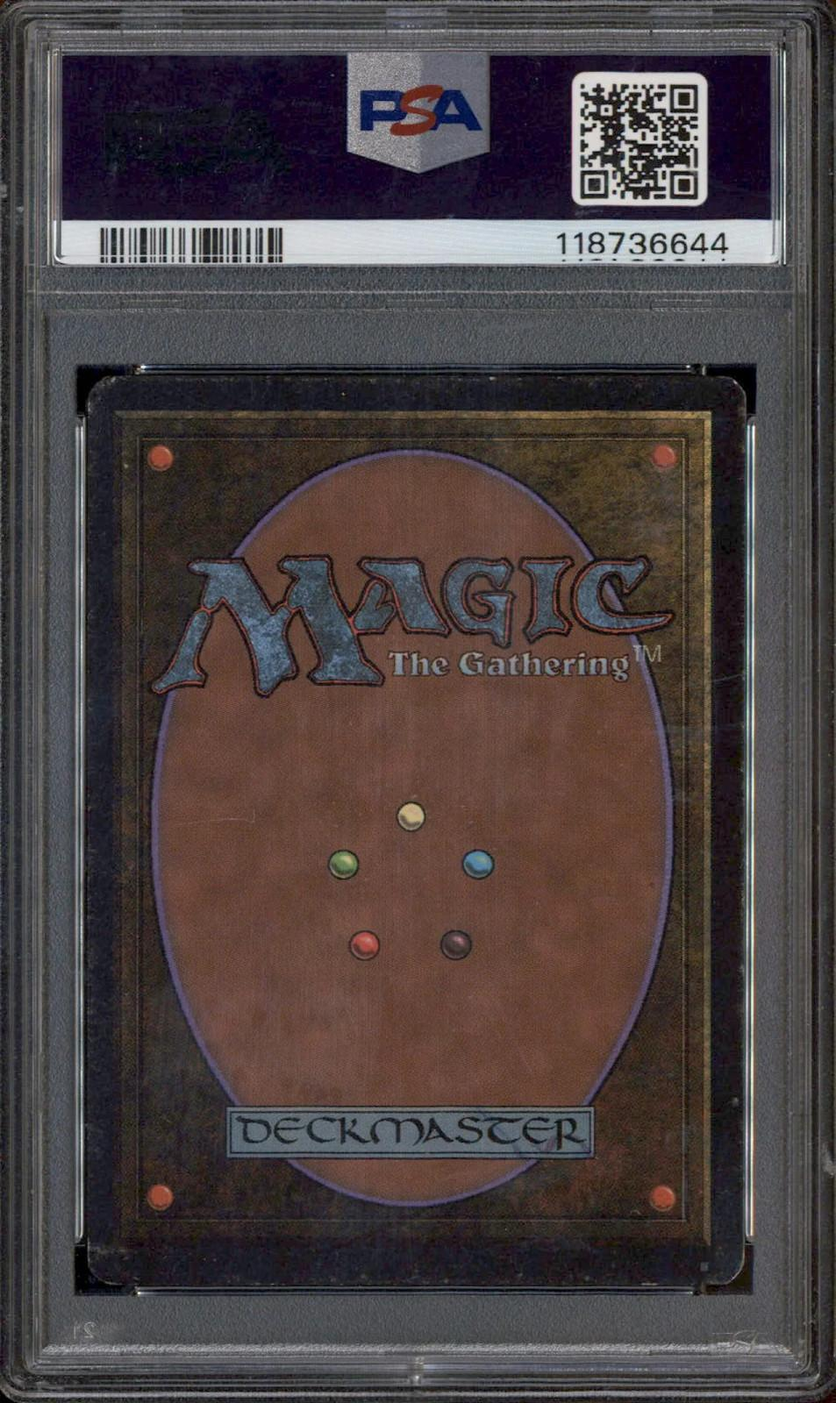card-2UtV: (87, 375, 747, 1285)
